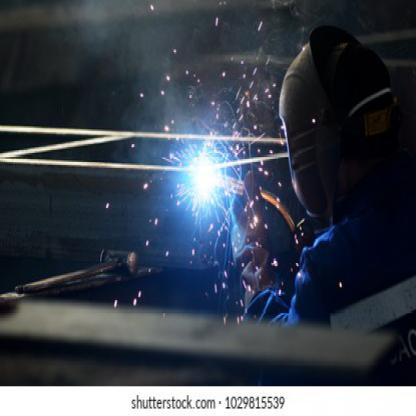with_gloves: (230, 172, 278, 299)
